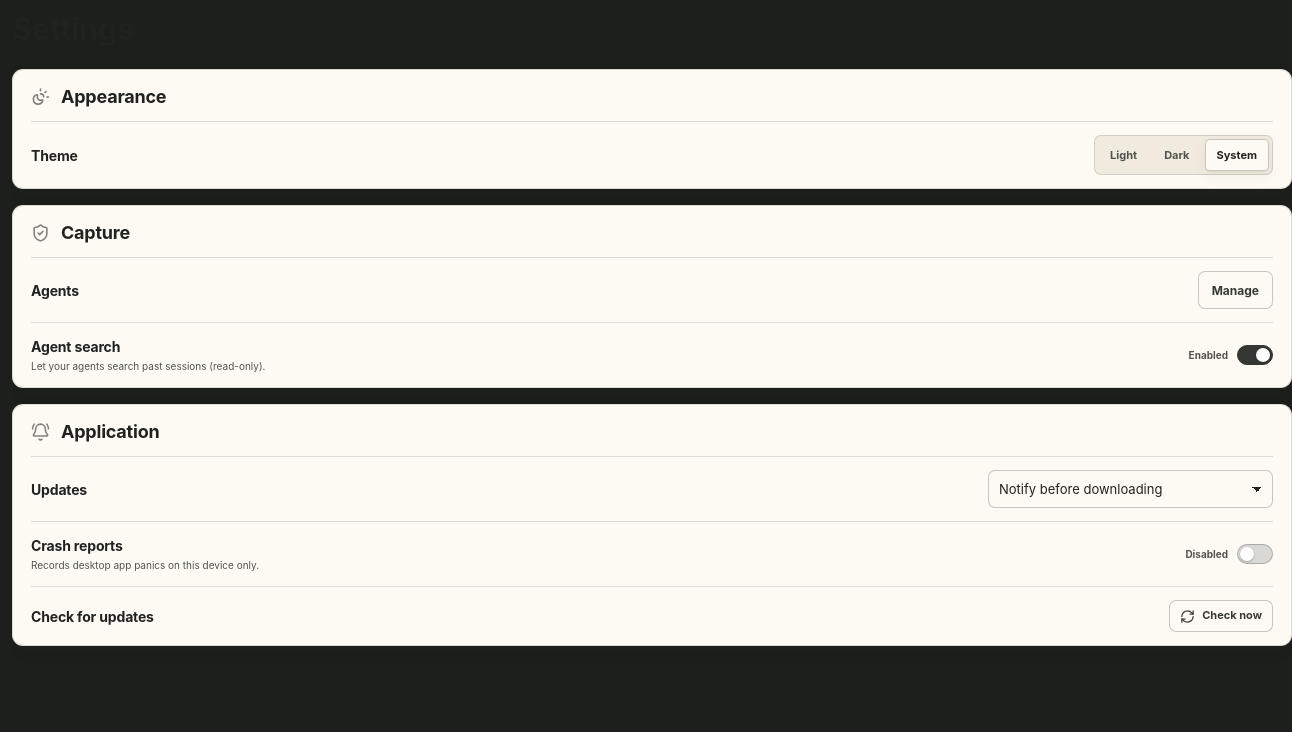
Scenario: settings appearance preference › reverts the selected state and theme if saving fails, with an announced error
Expected: the button "System" is shown, [1204,139,1269,171]
Click the button "Dark" at point(1177, 155), box [1152,139,1202,171]
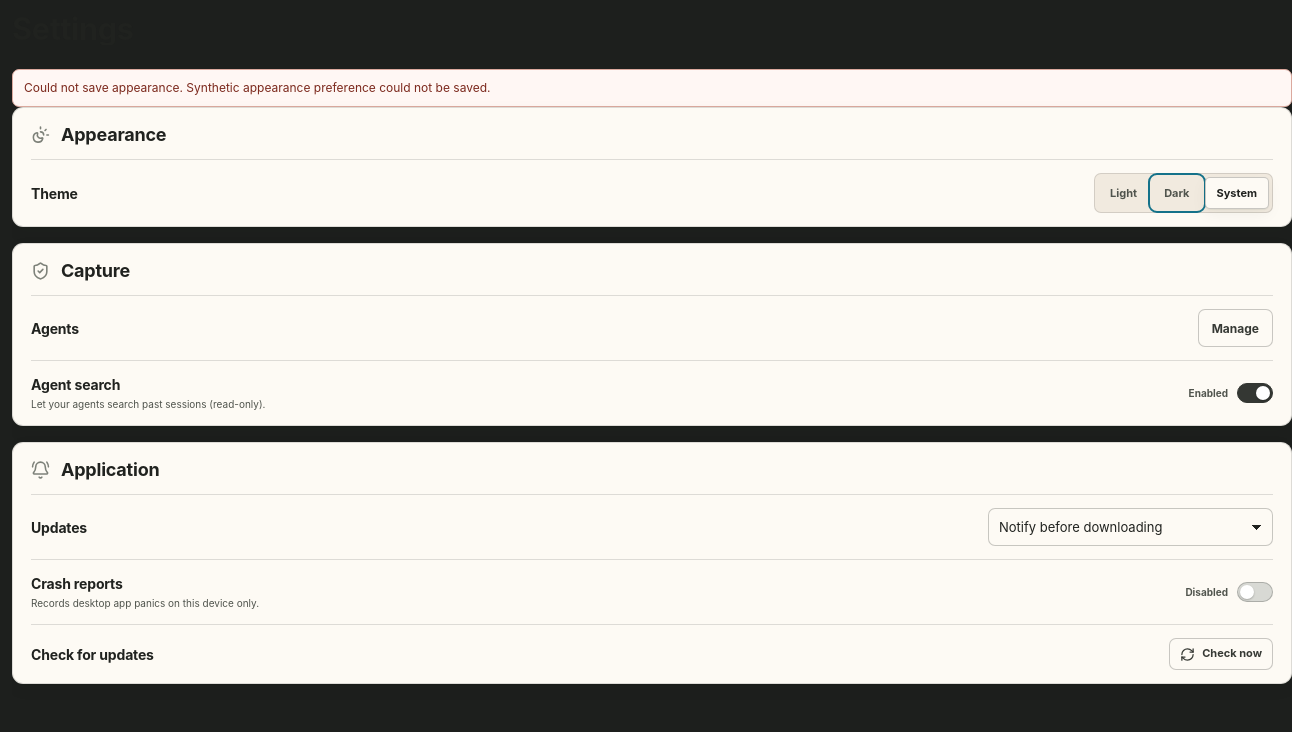
Expected: the button "System" is shown, [1204,177,1269,209]
Expected: the text "Could not save appearance" is shown, [24,80,490,95]
